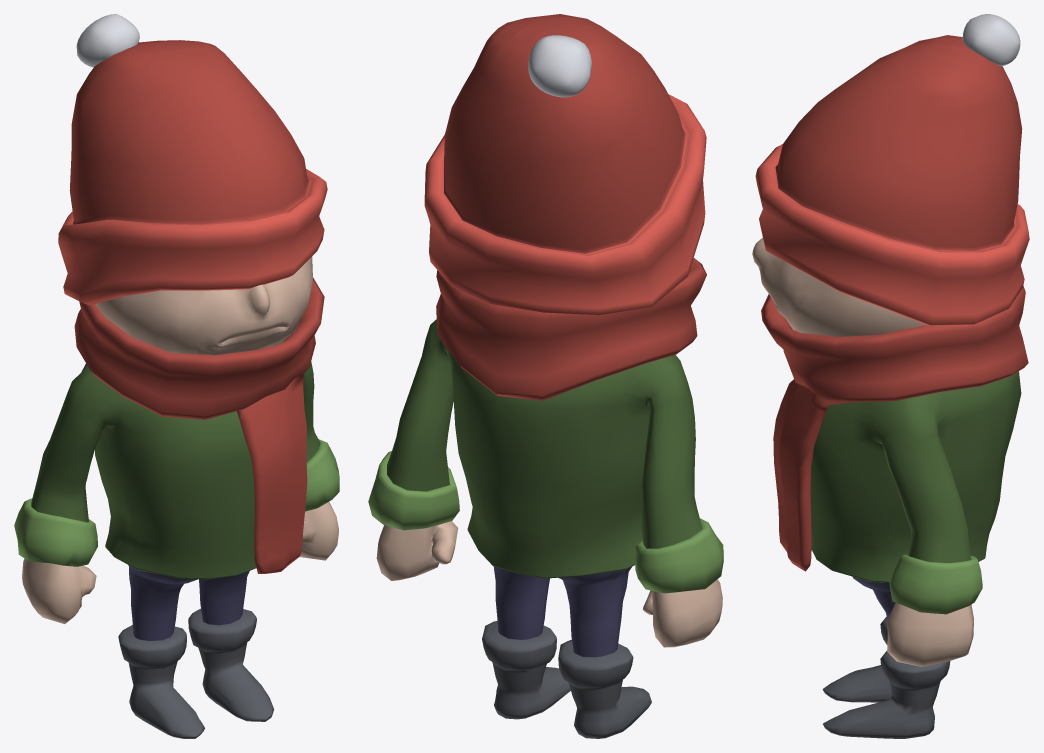
The model's file is miniMeanie.fbx.
3 views of the same model, side by side, from view 1: azimuth 30°, elevation 25°; view 2: azimuth 150°, elevation 25°; view 3: azimuth 270°, elevation 25° (orthographic). The views are drawn at different scales.
Visible parts, largest first — view 1: mainBody, hat, scarf, hatPoofBall; view 2: mainBody, hat, scarf, hatPoofBall; view 3: hat, mainBody, scarf, hatPoofBall.
Part boxes in pixels (x1,y1,x2,y2): mainBody: [14, 256, 339, 738]; hat: [58, 40, 327, 305]; scarf: [74, 277, 324, 573]; hatPoofBall: [76, 14, 139, 67]; mainBody: [368, 319, 723, 738]; hat: [424, 14, 706, 314]; scarf: [436, 258, 706, 400]; hatPoofBall: [528, 35, 591, 97]; hat: [755, 35, 1029, 325]; mainBody: [752, 237, 1021, 738]; scarf: [761, 286, 1028, 571]; hatPoofBall: [962, 14, 1020, 66].
Bounding box in the file's own units: 0.5192 × 1.06 × 0.3936.
